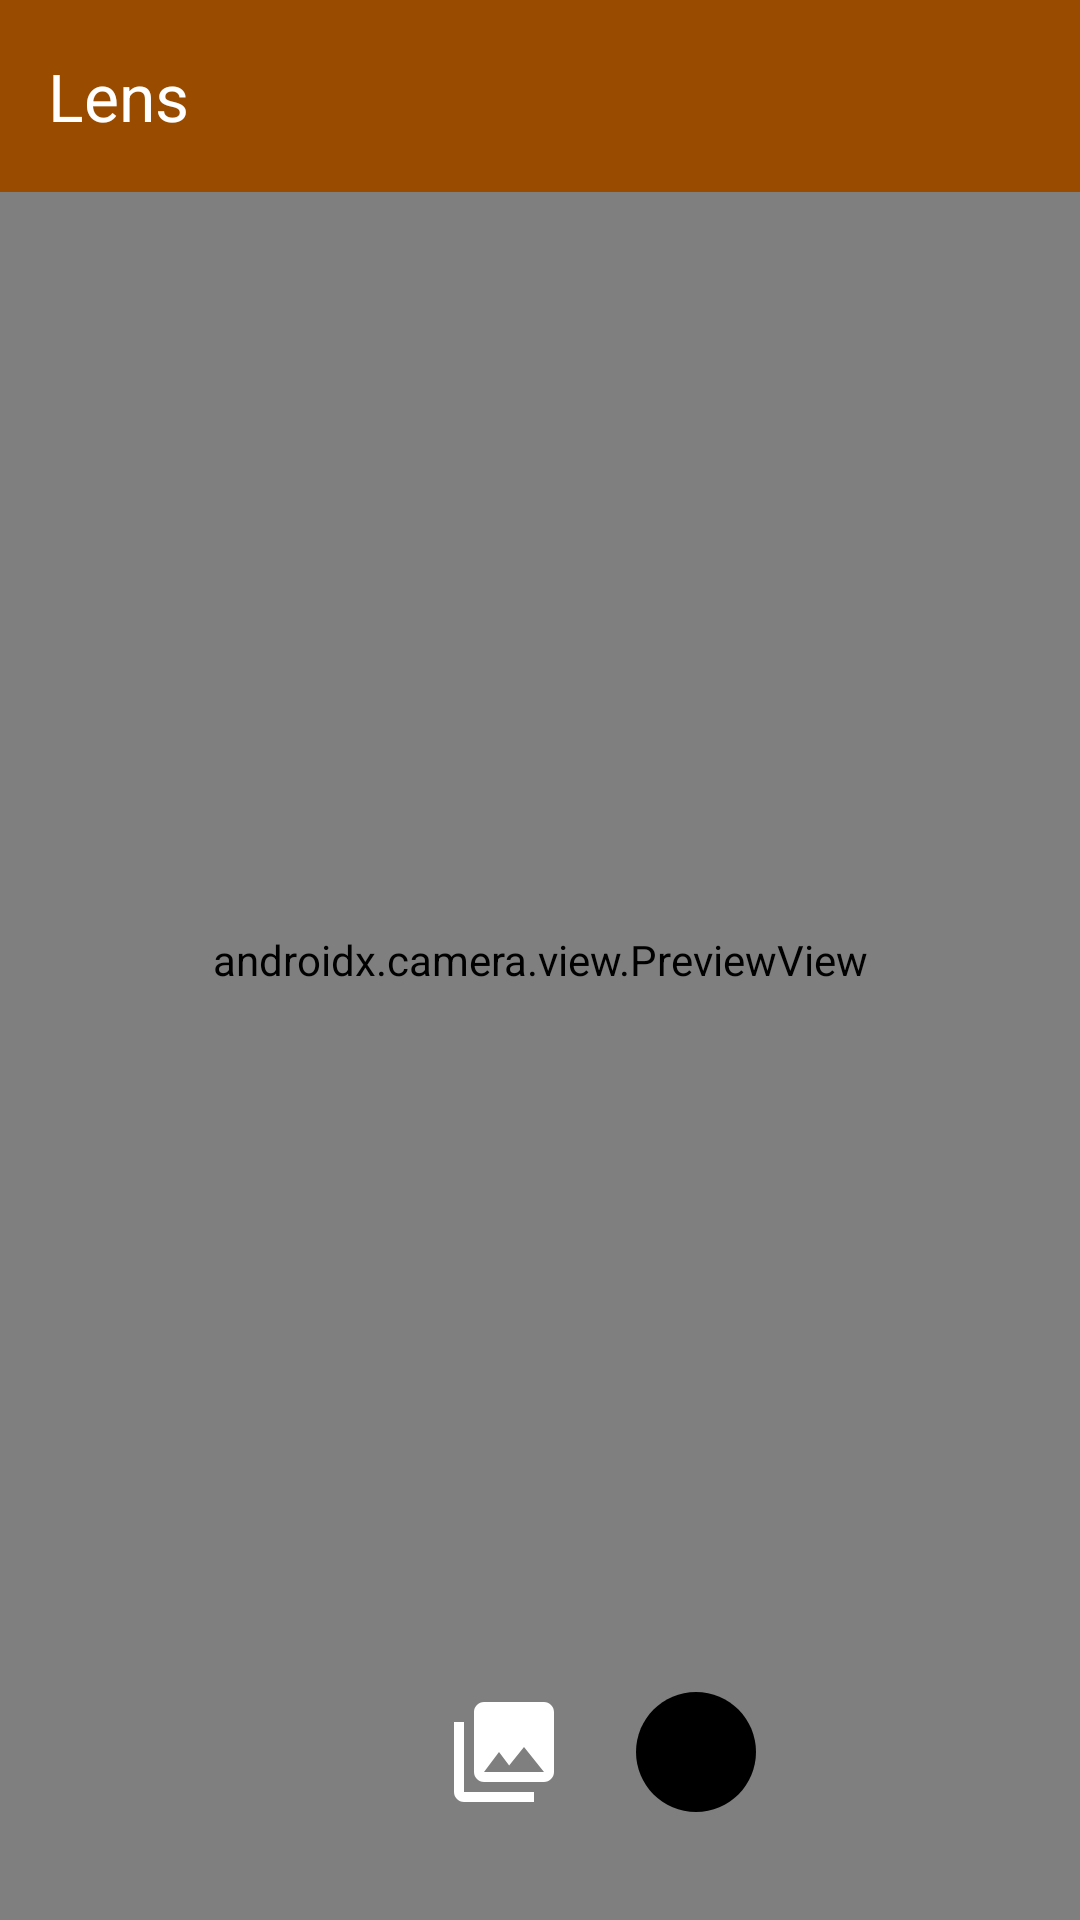

Screen size 1080*1920. Icon name, then its box in pixels as (x1, y1, x2, y2):
photo library: (454, 1702, 554, 1802)
